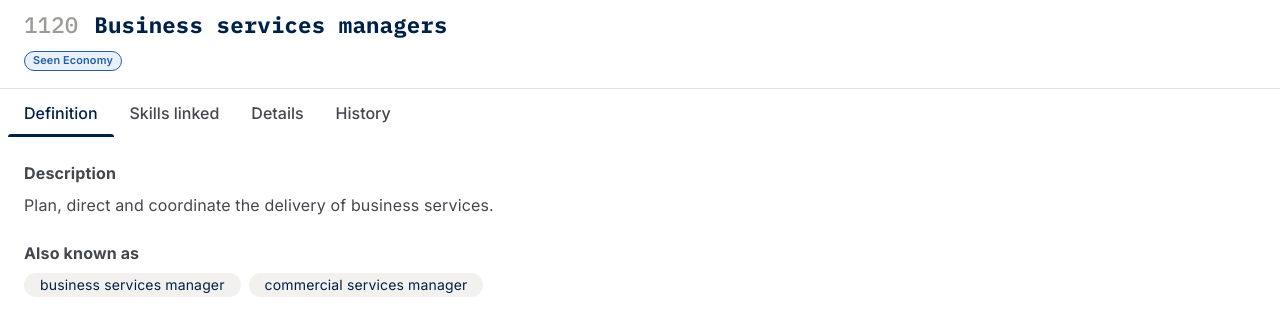
Test: ExplorerDetailPanel › Details tab › should render the type and code for an occupation
What coordinates should you click on to do the following:
click the tab "Details"
I would click on:
 (277, 113)
Its box is [235,89,320,137].
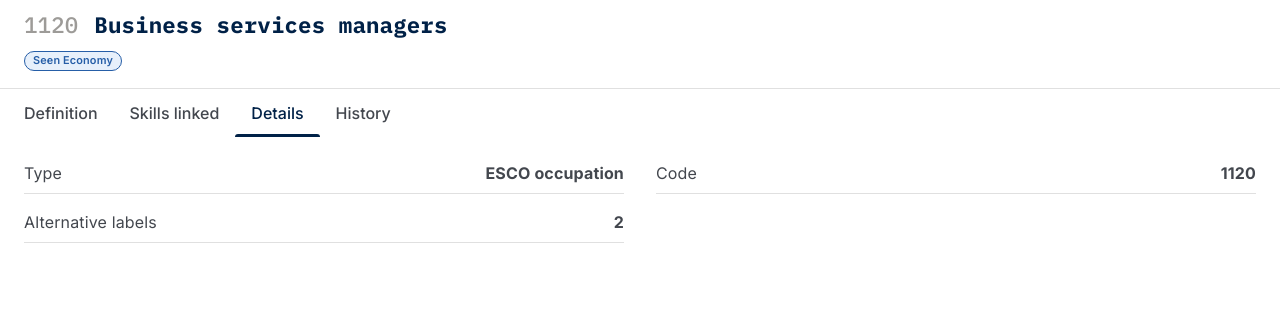
Now the text "Type" is shown, box [24,161,62,185]
Now the text "ESCO occupation" is shown, box [486,161,624,185]
Now the text "Code" is shown, box [656,161,697,185]
